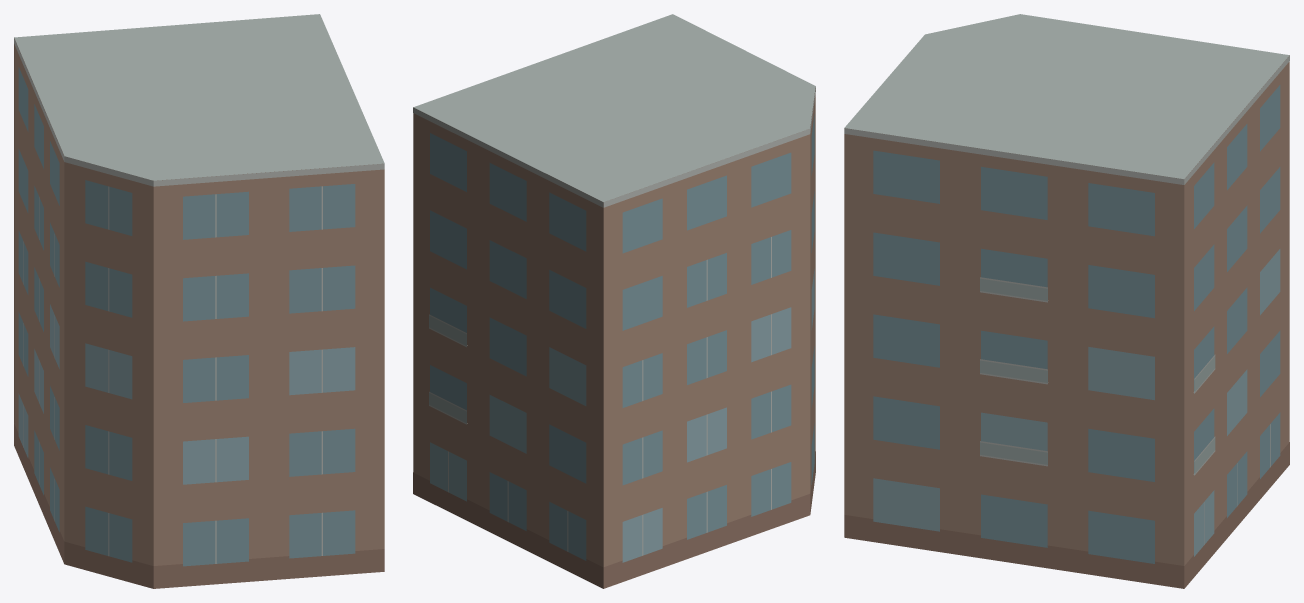
File: survey-upis-32849542.glb
The picture shows the model from 3 angles, left to right: view 1: azimuth 30°, elevation 25°; view 2: azimuth 150°, elevation 25°; view 3: azimuth 270°, elevation 25°; orthographic projection. The views are drawn at different scales.
Visible parts, largest first — view 1: survey-upis-32849542.tmp; view 2: survey-upis-32849542.tmp; view 3: survey-upis-32849542.tmp.
Boxes of the visible parts, bbox=[...] form: survey-upis-32849542.tmp: bbox=[14, 14, 384, 588]; survey-upis-32849542.tmp: bbox=[413, 14, 815, 588]; survey-upis-32849542.tmp: bbox=[844, 14, 1289, 588].
Bounding box in the file's own units: 14.63 × 16.9 × 16.67.
